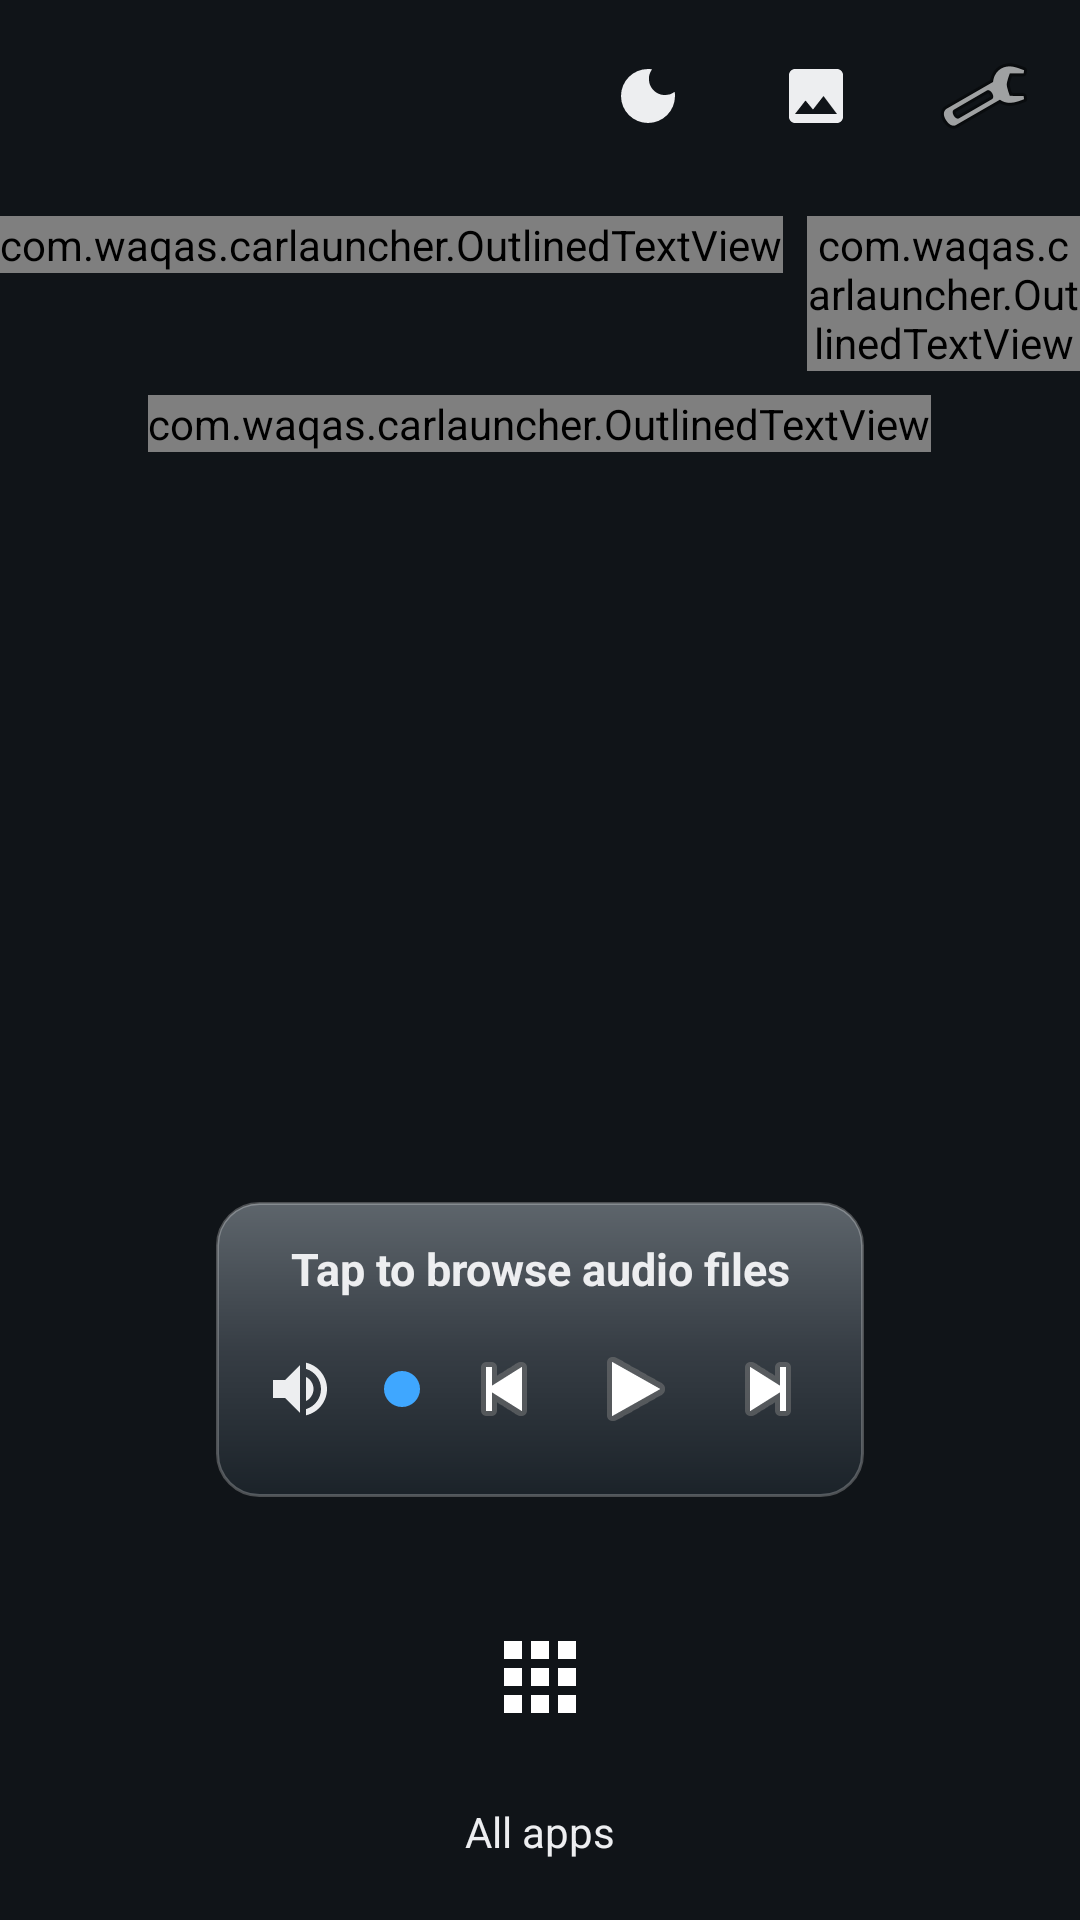

Point at icon controls on the screen. Image size 1080 x 1920, points as point (x, y).
Mute / unmute: point (300, 1378)
Next track: point (768, 1389)
Night mode: point (648, 96)
Play / pause: point (636, 1369)
Previous track: point (504, 1389)
Settings: point (984, 96)
